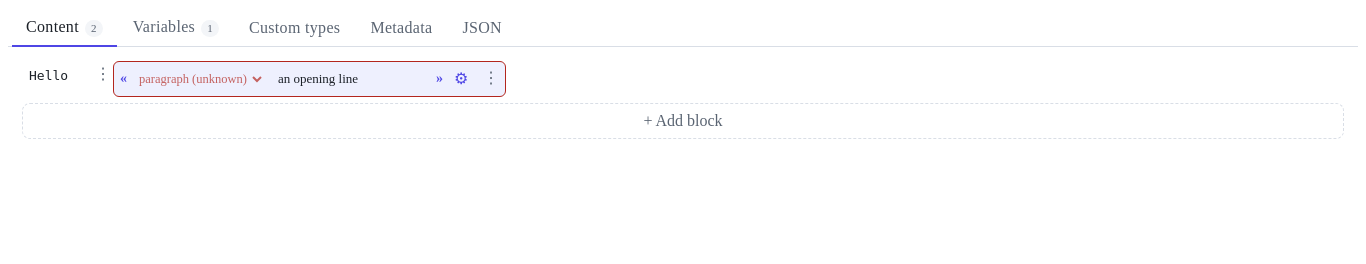
Test: a read-only editor › still moves between tabs, because reading a template means reading all of it
Click the tab "Variables 1". click: (176, 28)
box: 119,8 -> 233,47
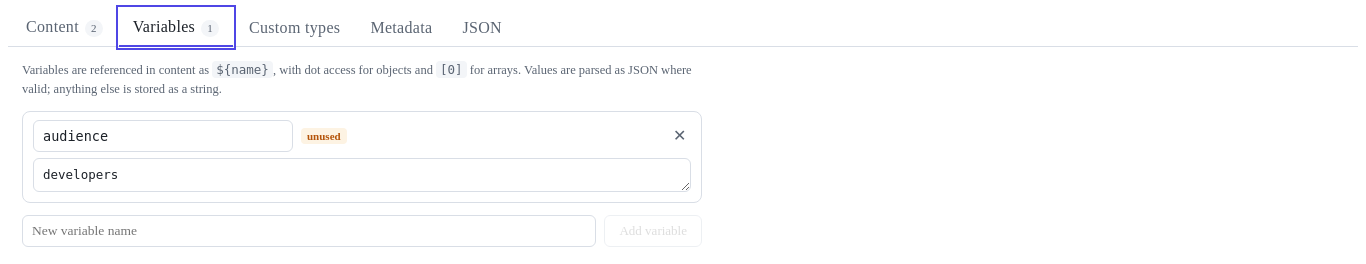
Result: the text box showing "developers" is shown at 33,158 -> 691,192
